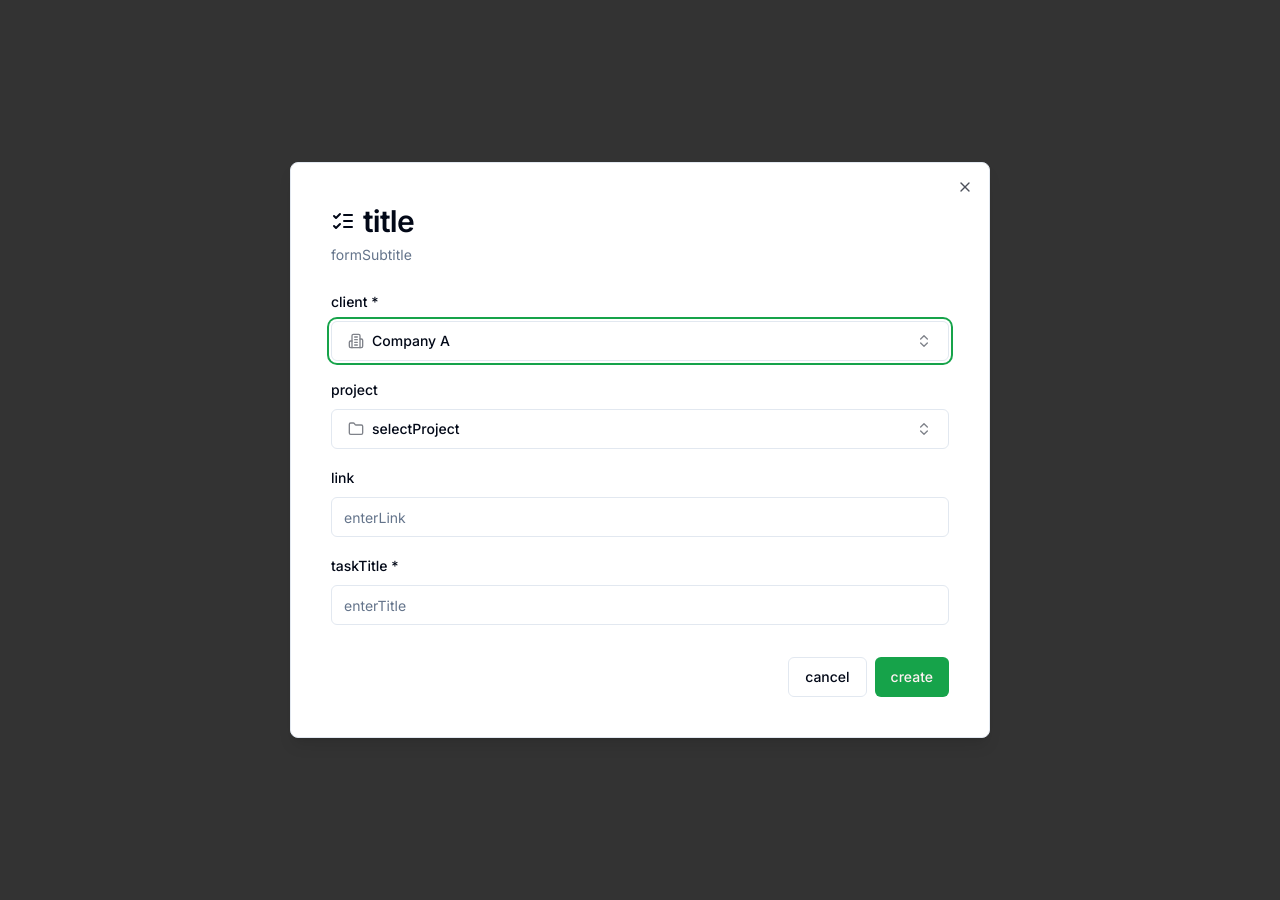
Test: TaskCreateDialog › auto-fills the title from a pasted Jira link (key only)
The image size is (1280, 900).
Step 1. Type "https://acme.atlassian.net/browse/PROJ-123" into the field with placeholder "enterLink" → (640, 517), box [331,497,949,537]
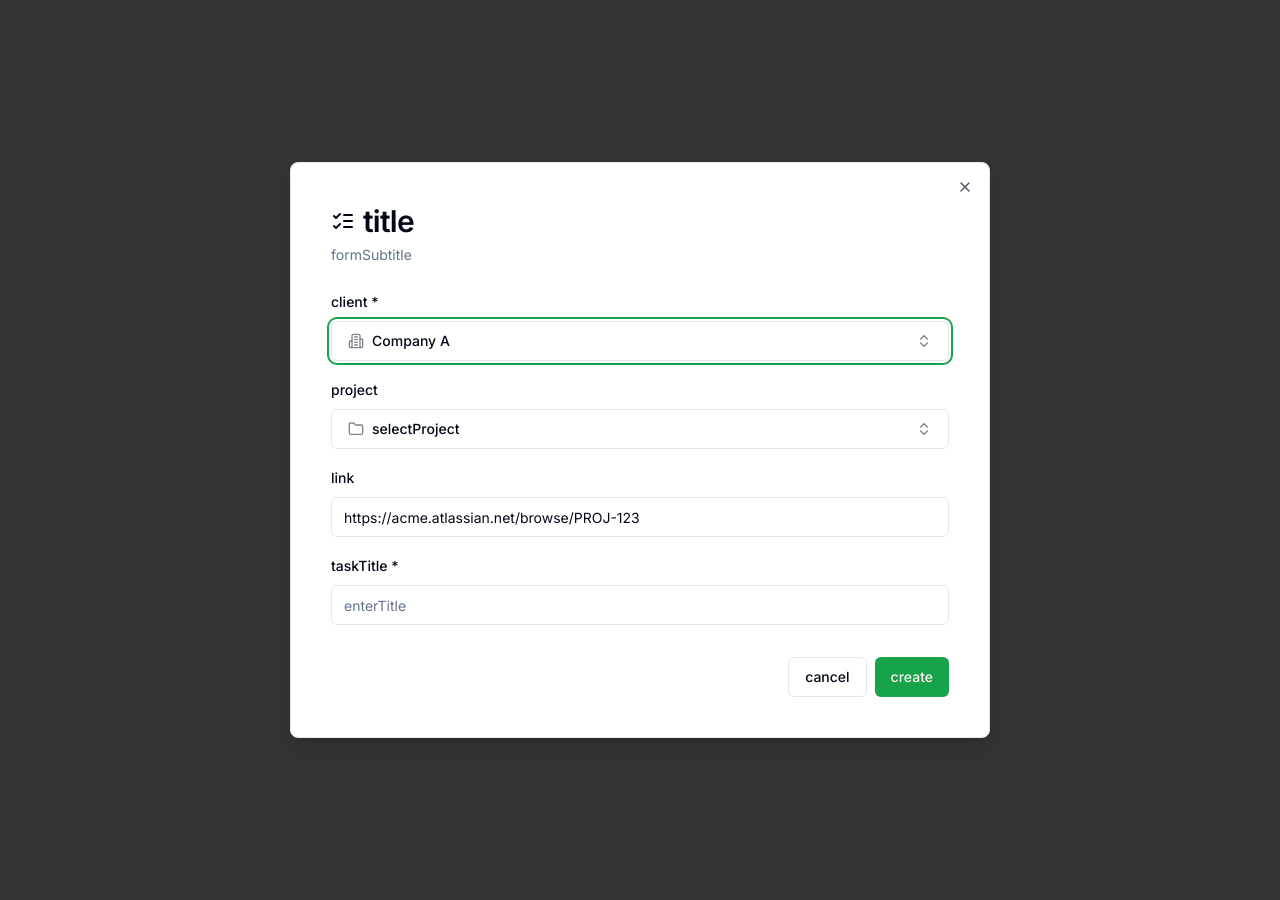
Step 2. Leave the field with placeholder "enterLink", box [331,497,949,537]
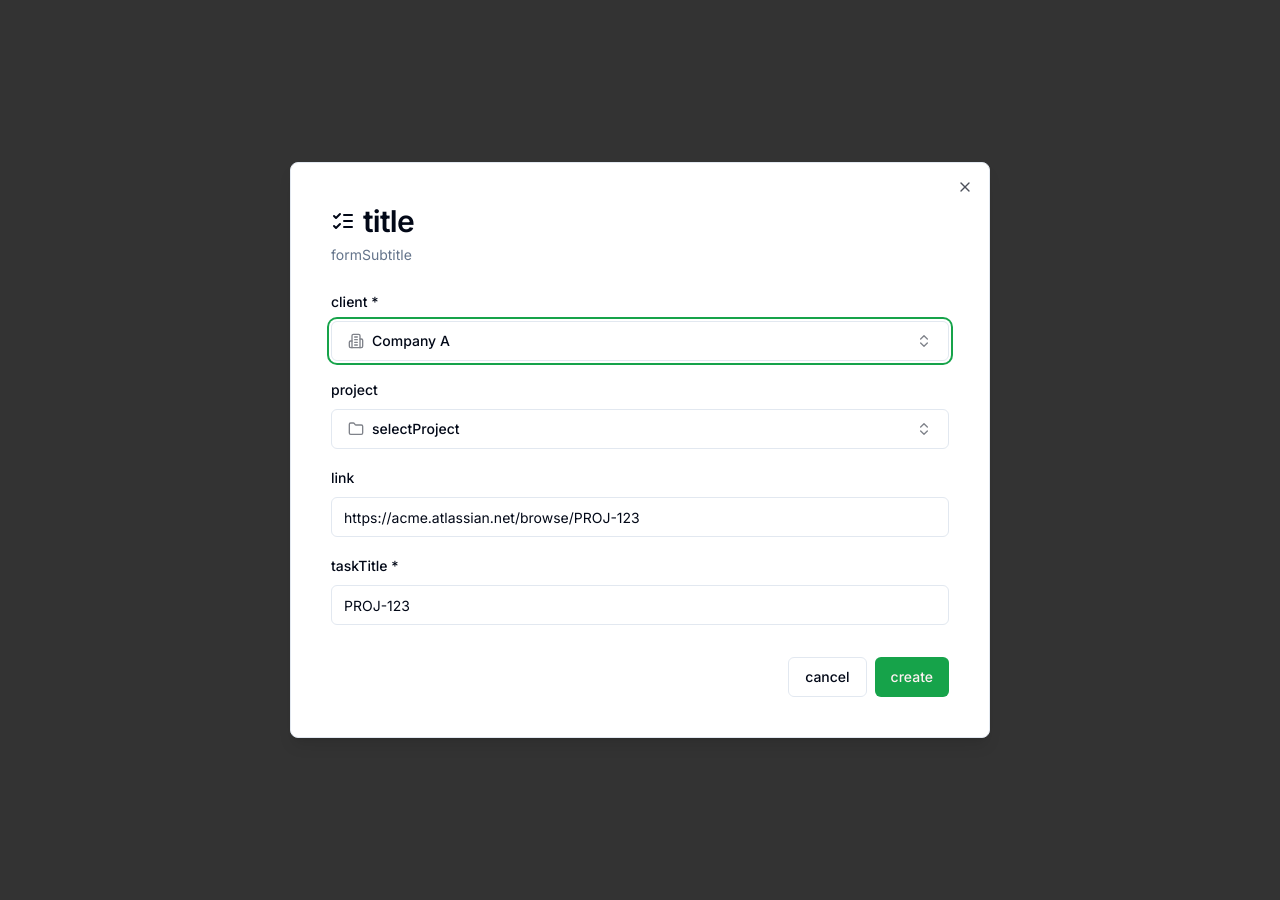
Expected: the field with placeholder "enterTitle" holds "PROJ-123", [331,585,949,625]
